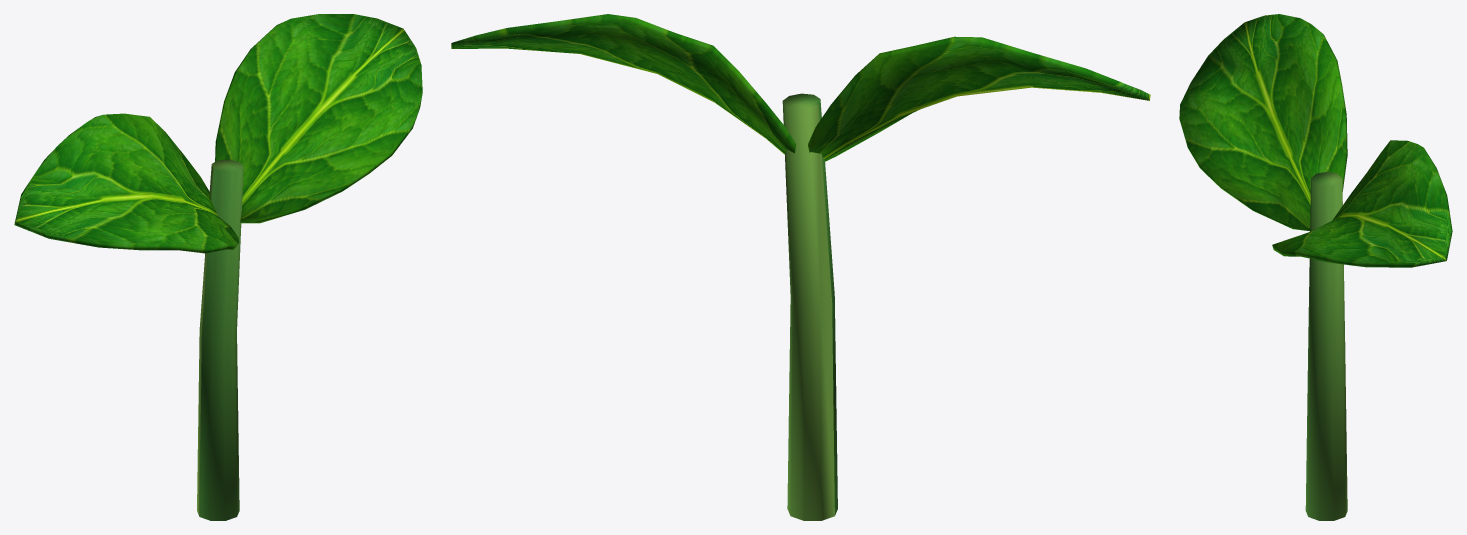
The model's file is NP_Chrysanthemum_Sprout_LOD1.fbx.
The picture shows the model from 3 angles, left to right: view 1: azimuth 30°, elevation 25°; view 2: azimuth 150°, elevation 25°; view 3: azimuth 270°, elevation 25°; orthographic projection. The views are drawn at different scales.
Parts seen in each view (by area): view 1: NP_Chrysanthemum_Sprout; view 2: NP_Chrysanthemum_Sprout; view 3: NP_Chrysanthemum_Sprout.
Part boxes in pixels (x1,y1,x2,y2): NP_Chrysanthemum_Sprout: (14, 14, 422, 520); NP_Chrysanthemum_Sprout: (451, 14, 1150, 520); NP_Chrysanthemum_Sprout: (1179, 14, 1452, 520).
Bounding box in the file's own units: 15.64 × 13.09 × 7.7.
